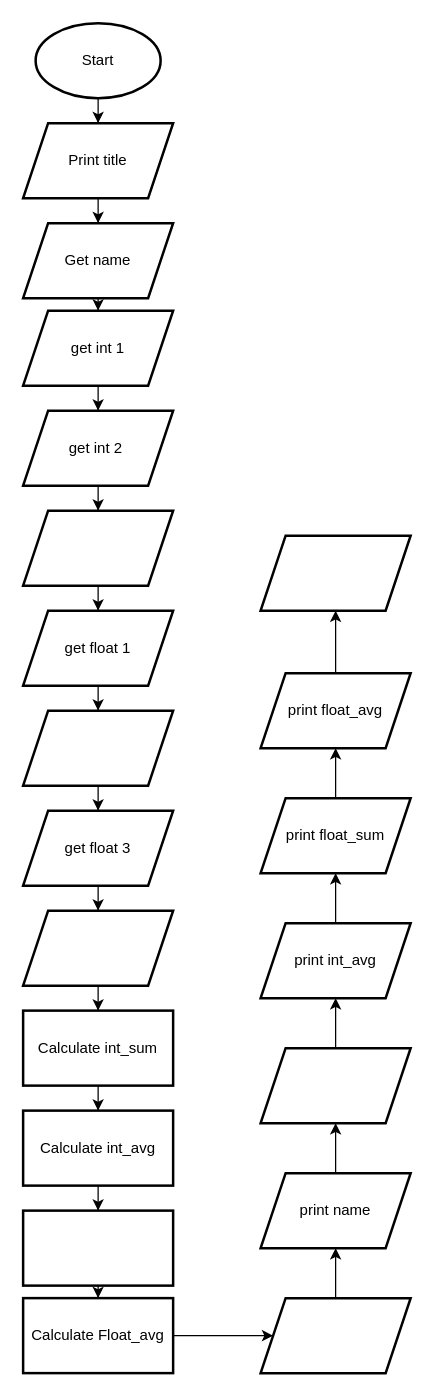
Image size: 433x1395. Some labels were removed from this diagram. The box of each missing label's shape, as (x1, y1, x2, y2) in pixels:
Calculate float_sum: (21, 1209, 174, 1286)
Display outputs: (259, 1296, 411, 1374)
get float 2: (21, 709, 174, 786)
get int 3: (21, 509, 174, 586)
print int_sum: (259, 1046, 411, 1124)
print program complete: (259, 534, 411, 611)
Process the values: (21, 909, 174, 986)
